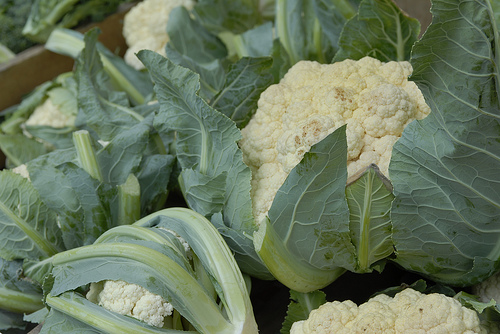cauliflower: (205, 55, 429, 235), (0, 203, 259, 333), (1, 138, 143, 333), (287, 284, 484, 333), (121, 0, 194, 71), (22, 82, 80, 128)
